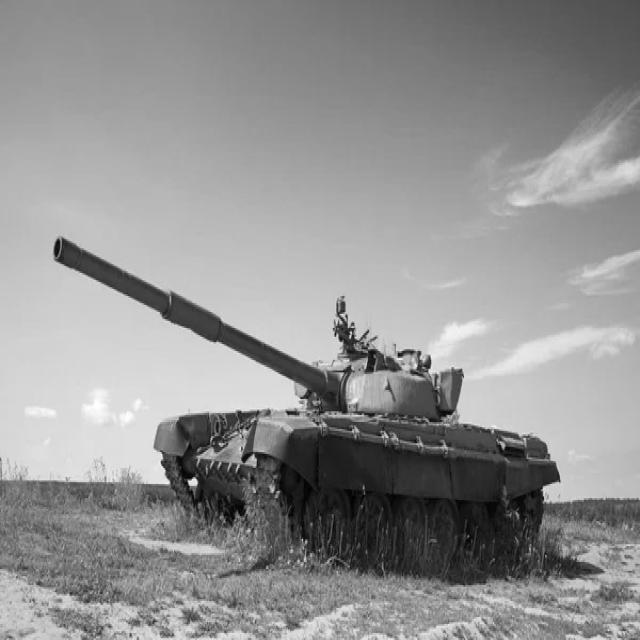Tank: (48, 228, 565, 566)
